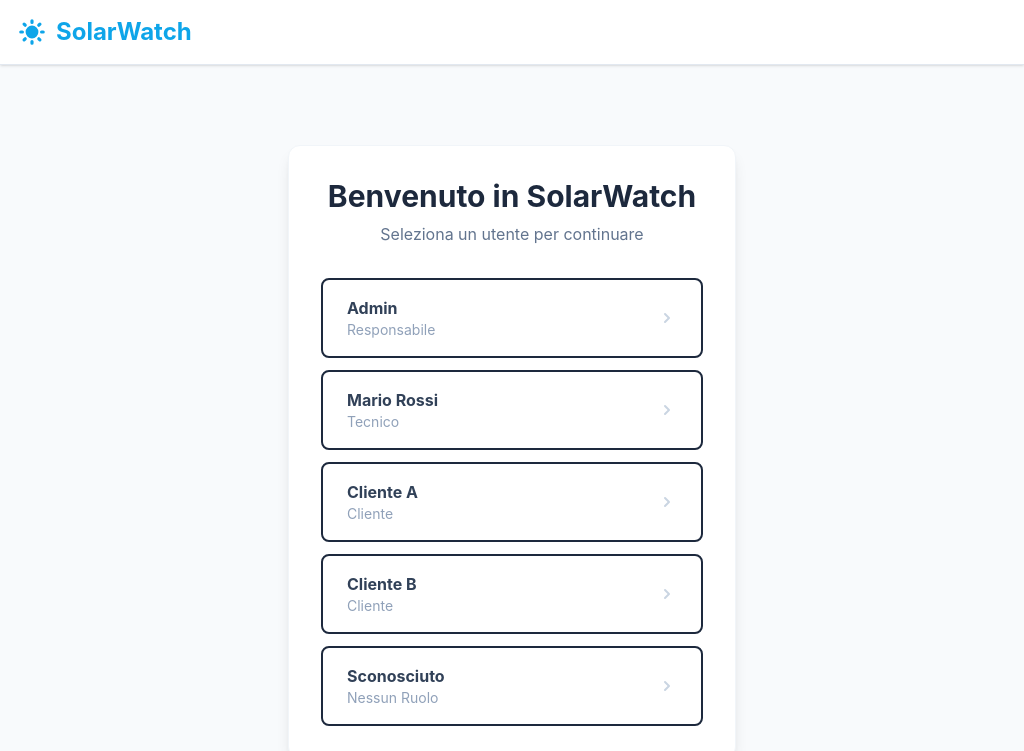
Storico Impianti — Limite 24 Mesi › [POSITIVO] Selezionando 24 mesi vengono visualizzate tutte le righe dello storico
Click the button with test id "login-user-1" at {"x": 372, "y": 308}, box [321, 278, 703, 358]
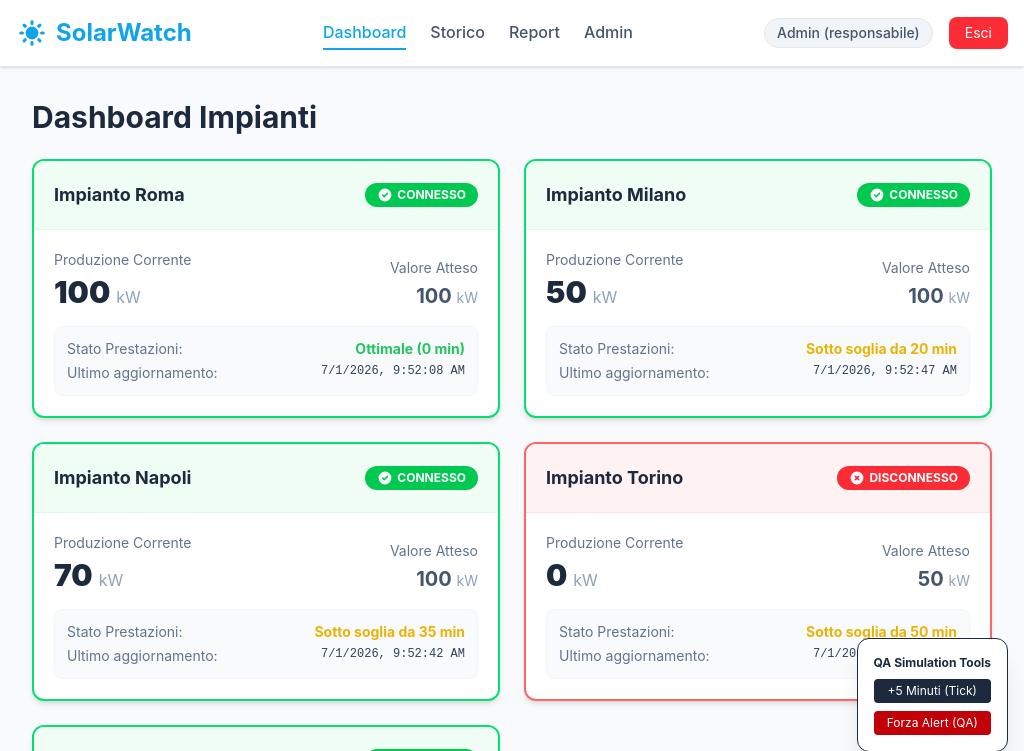
Click the link "Storico" at {"x": 458, "y": 32}, box [430, 22, 485, 42]
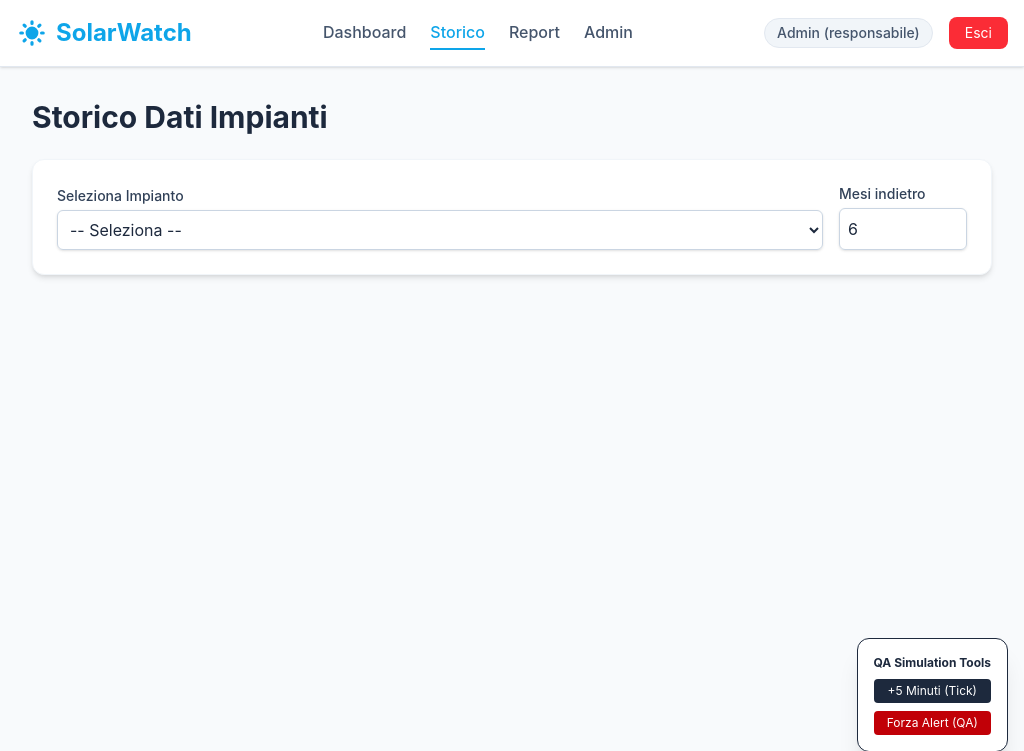
Select "1" in the dropdown with test id "history-plant-select" at {"x": 440, "y": 230}, box [57, 210, 823, 250]
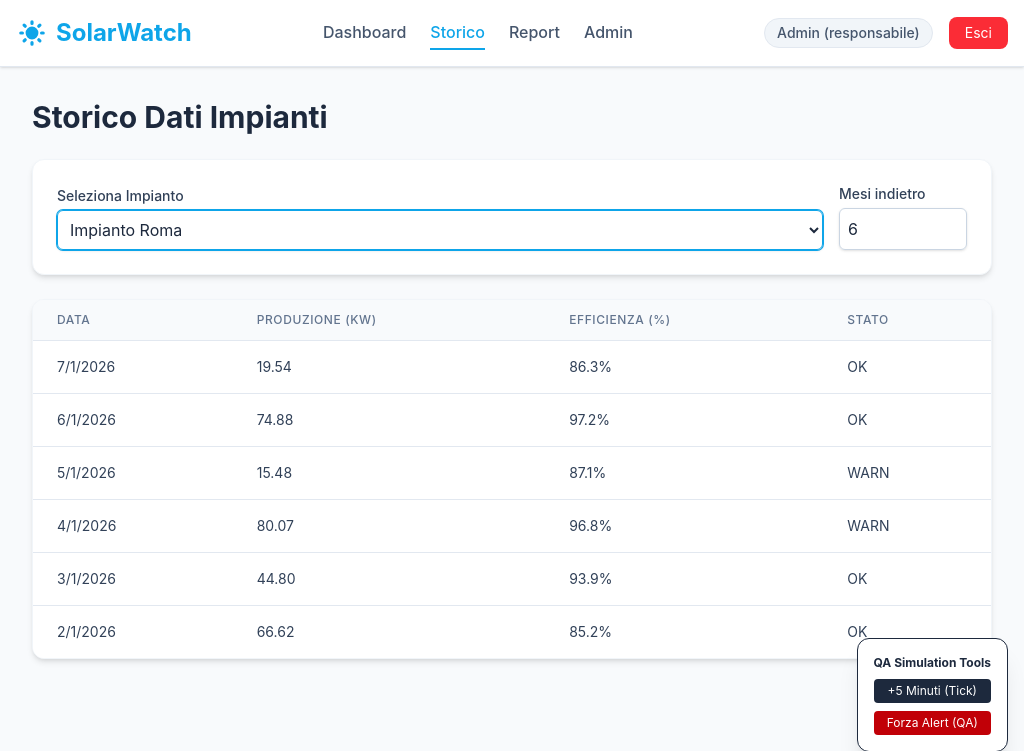
Replace the text in the number field with test id "history-months-input" with "24" at {"x": 903, "y": 229}, box [839, 208, 967, 250]
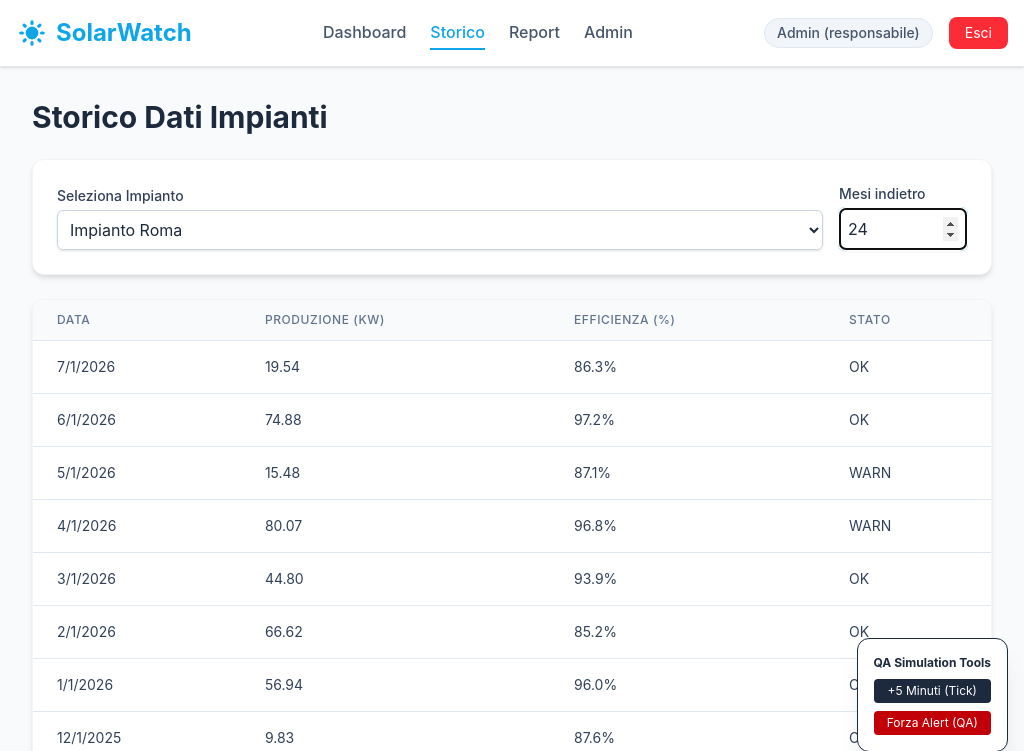
Expected: the number of rows with test id "history-row" is 24
